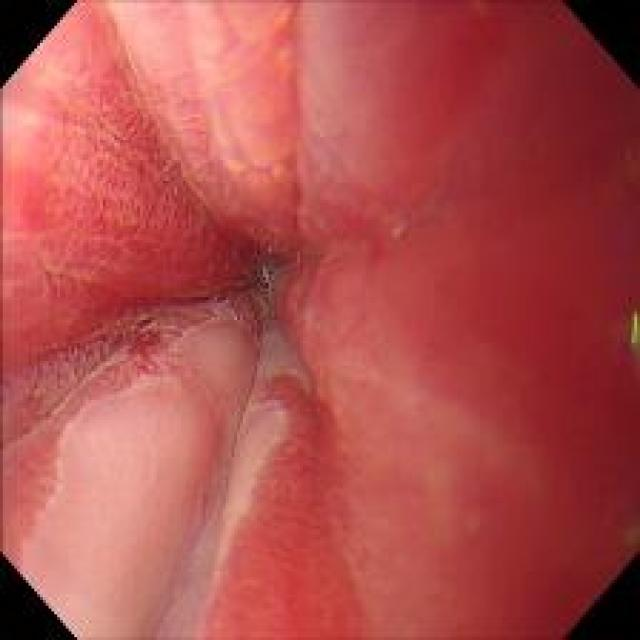blur: (291, 2, 599, 635)
bubbles: (251, 256, 281, 289), (209, 286, 231, 304)
color misalignment: (628, 308, 639, 348)
